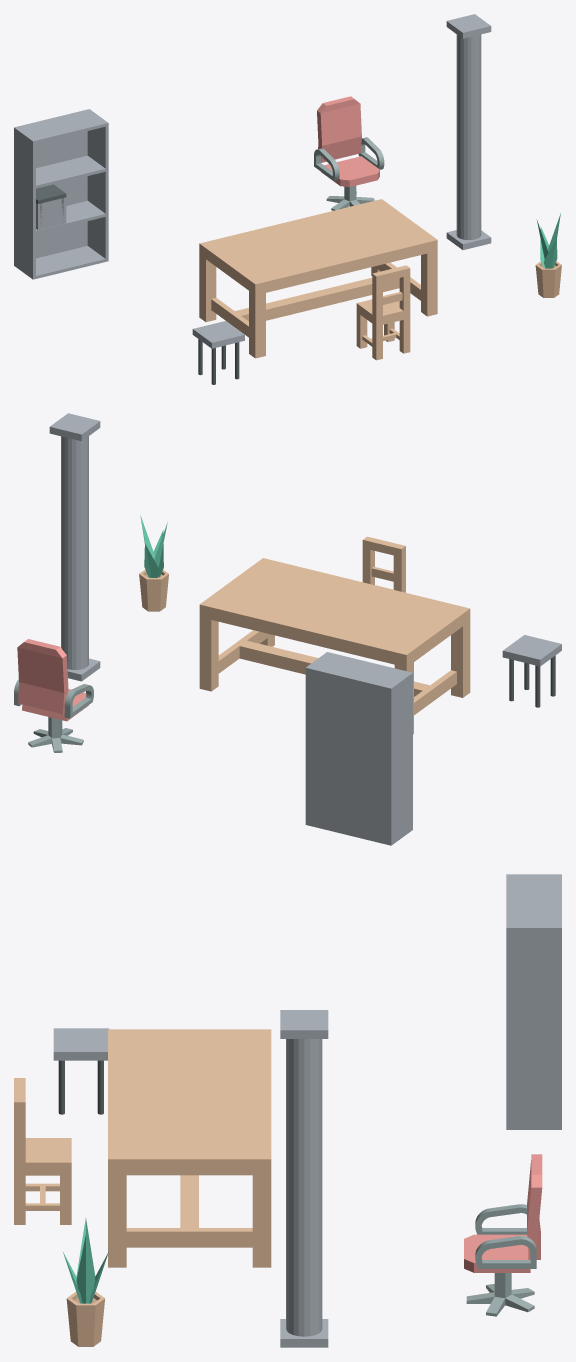
3 views of the same model, one above another, from view 1: azimuth 30°, elevation 25°; view 2: azimuth 150°, elevation 25°; view 3: azimuth 270°, elevation 25° (orthographic). The views are drawn at different scales.
Parts seen in each view (by area): view 1: table_green__table(Clone), column_cyan__column_cyan shaft, deskchair_black__chair, chair_cyan__chair(Clone), shelf_orange__shelf_orange back, shelf_orange__shelf_orange side_l, shelf_orange__shelf_orange side_r, shelf_orange__shelf_orange board3, shelf_orange__shelf_orange board0, shelf_orange__shelf_orange board2, stool_purple__stool_purple seat, box_yellow__box_yellow shell (+6 smaller); view 2: table_green__table(Clone), shelf_orange__shelf_orange back, column_cyan__column_cyan shaft, deskchair_black__chair, shelf_orange__shelf_orange side_l, chair_cyan__chair(Clone), shelf_orange__shelf_orange board3, stool_purple__stool_purple seat, plant_pink__pottedPlant(Clone), column_cyan__column_cyan capital, deskchair_black__chairDesk(Clone), plant_pink__plant (+1 smaller); view 3: table_green__table(Clone), shelf_orange__shelf_orange side_r, column_cyan__column_cyan shaft, deskchair_black__chair, chair_cyan__chair(Clone), shelf_orange__shelf_orange board3, stool_purple__stool_purple seat, plant_pink__pottedPlant(Clone), deskchair_black__chairDesk(Clone), column_cyan__column_cyan capital, plant_pink__plant, column_cyan__column_cyan plinth.
Boxes of the visible parts, left/top/right/bottom form: table_green__table(Clone): left=199, top=199, right=437, bottom=358; column_cyan__column_cyan shaft: left=456, top=34, right=481, bottom=239; deskchair_black__chair: left=314, top=96, right=384, bottom=187; chair_cyan__chair(Clone): left=356, top=265, right=410, bottom=360; shelf_orange__shelf_orange back: left=17, top=109, right=87, bottom=258; shelf_orange__shelf_orange side_l: left=14, top=126, right=35, bottom=279; shelf_orange__shelf_orange side_r: left=87, top=109, right=108, bottom=261; shelf_orange__shelf_orange board3: left=18, top=110, right=105, bottom=143; shelf_orange__shelf_orange board0: left=36, top=246, right=105, bottom=278; shelf_orange__shelf_orange board2: left=36, top=155, right=105, bottom=188; stool_purple__stool_purple seat: left=192, top=321, right=244, bottom=348; box_yellow__box_yellow shell: left=36, top=197, right=66, bottom=229; table_green__table(Clone): left=199, top=558, right=470, bottom=734; shelf_orange__shelf_orange back: left=308, top=667, right=388, bottom=844; column_cyan__column_cyan shaft: left=61, top=436, right=88, bottom=669; deskchair_black__chair: left=14, top=639, right=93, bottom=721; shelf_orange__shelf_orange side_l: left=388, top=672, right=412, bottom=845; chair_cyan__chair(Clone): left=362, top=536, right=405, bottom=592; shelf_orange__shelf_orange board3: left=310, top=652, right=409, bottom=686; stool_purple__stool_purple seat: left=502, top=635, right=561, bottom=666; plant_pink__pottedPlant(Clone): left=139, top=569, right=168, bottom=611; column_cyan__column_cyan capital: left=49, top=413, right=100, bottom=441; deskchair_black__chairDesk(Clone): left=28, top=717, right=83, bottom=752; plant_pink__plant: left=140, top=515, right=167, bottom=577; table_green__table(Clone): left=108, top=1029, right=271, bottom=1267; shelf_orange__shelf_orange side_r: left=506, top=926, right=561, bottom=1129; column_cyan__column_cyan shaft: left=286, top=1039, right=322, bottom=1336; deskchair_black__chair: left=464, top=1154, right=542, bottom=1272; chair_cyan__chair(Clone): left=14, top=1078, right=71, bottom=1224; shelf_orange__shelf_orange board3: left=506, top=876, right=558, bottom=925; stool_purple__stool_purple seat: left=53, top=1028, right=109, bottom=1060; plant_pink__pottedPlant(Clone): left=66, top=1291, right=104, bottom=1346; deskchair_black__chairDesk(Clone): left=466, top=1273, right=534, bottom=1316; column_cyan__column_cyan capital: left=280, top=1010, right=328, bottom=1038; plant_pink__plant: left=63, top=1218, right=108, bottom=1303; column_cyan__column_cyan plinth: left=280, top=1319, right=328, bottom=1347.
Size of the model in its own units: 4.07 by 2.2 by 3.44.
